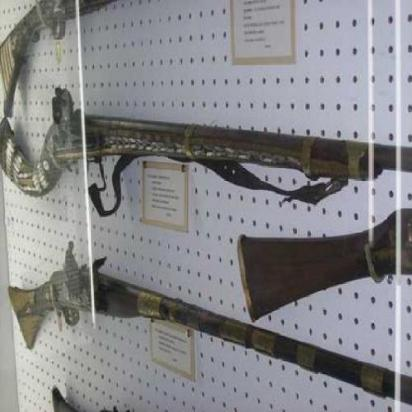Gun: (0, 96, 410, 211)
